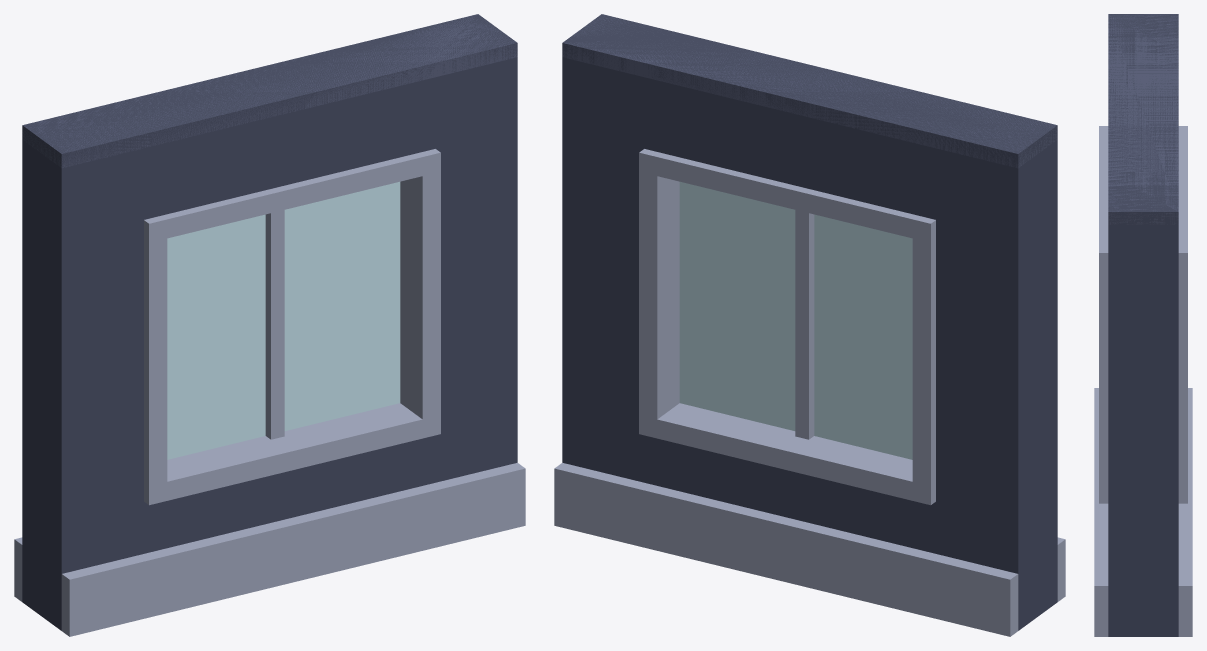
The model's file is wall-window.glb.
3 renders of one model, left to right at view 1: azimuth 30°, elevation 25°; view 2: azimuth 150°, elevation 25°; view 3: azimuth 270°, elevation 25°, orthographic. The views are drawn at different scales.
Visible parts, largest first — view 1: wall-window; view 2: wall-window; view 3: wall-window.
Boxes of the visible parts, x1,y1,x2,y2 form: wall-window: (14,14,525,636); wall-window: (554,14,1065,636); wall-window: (1094,14,1192,636).
Bounding box in the file's own units: 1 × 1 × 0.21.
Materials: 1 (1 with a texture image).
